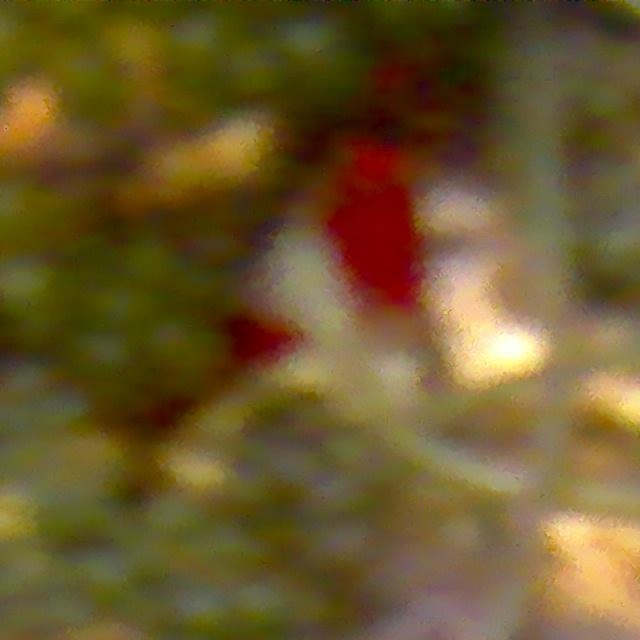SeaGrape: (276, 11, 368, 101), (0, 248, 72, 335), (166, 8, 239, 79), (50, 43, 121, 115), (97, 14, 171, 77), (221, 36, 287, 104), (70, 324, 139, 385), (89, 277, 158, 337), (121, 233, 183, 293)
